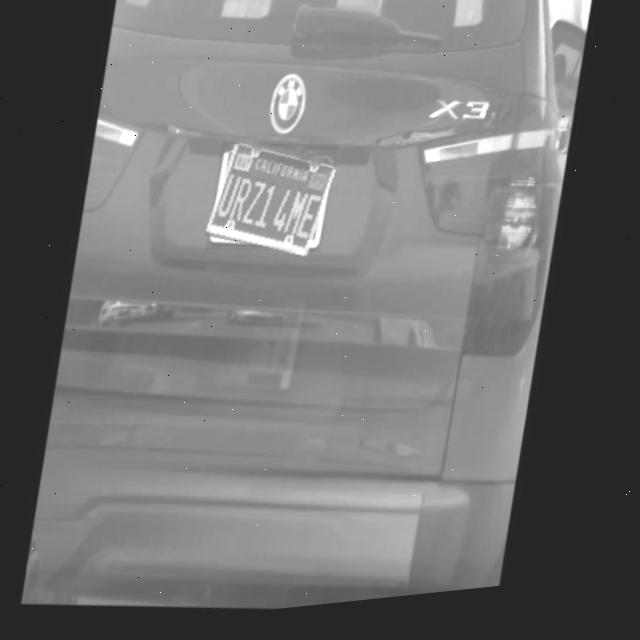LicensePlate: (207, 137, 339, 269)
